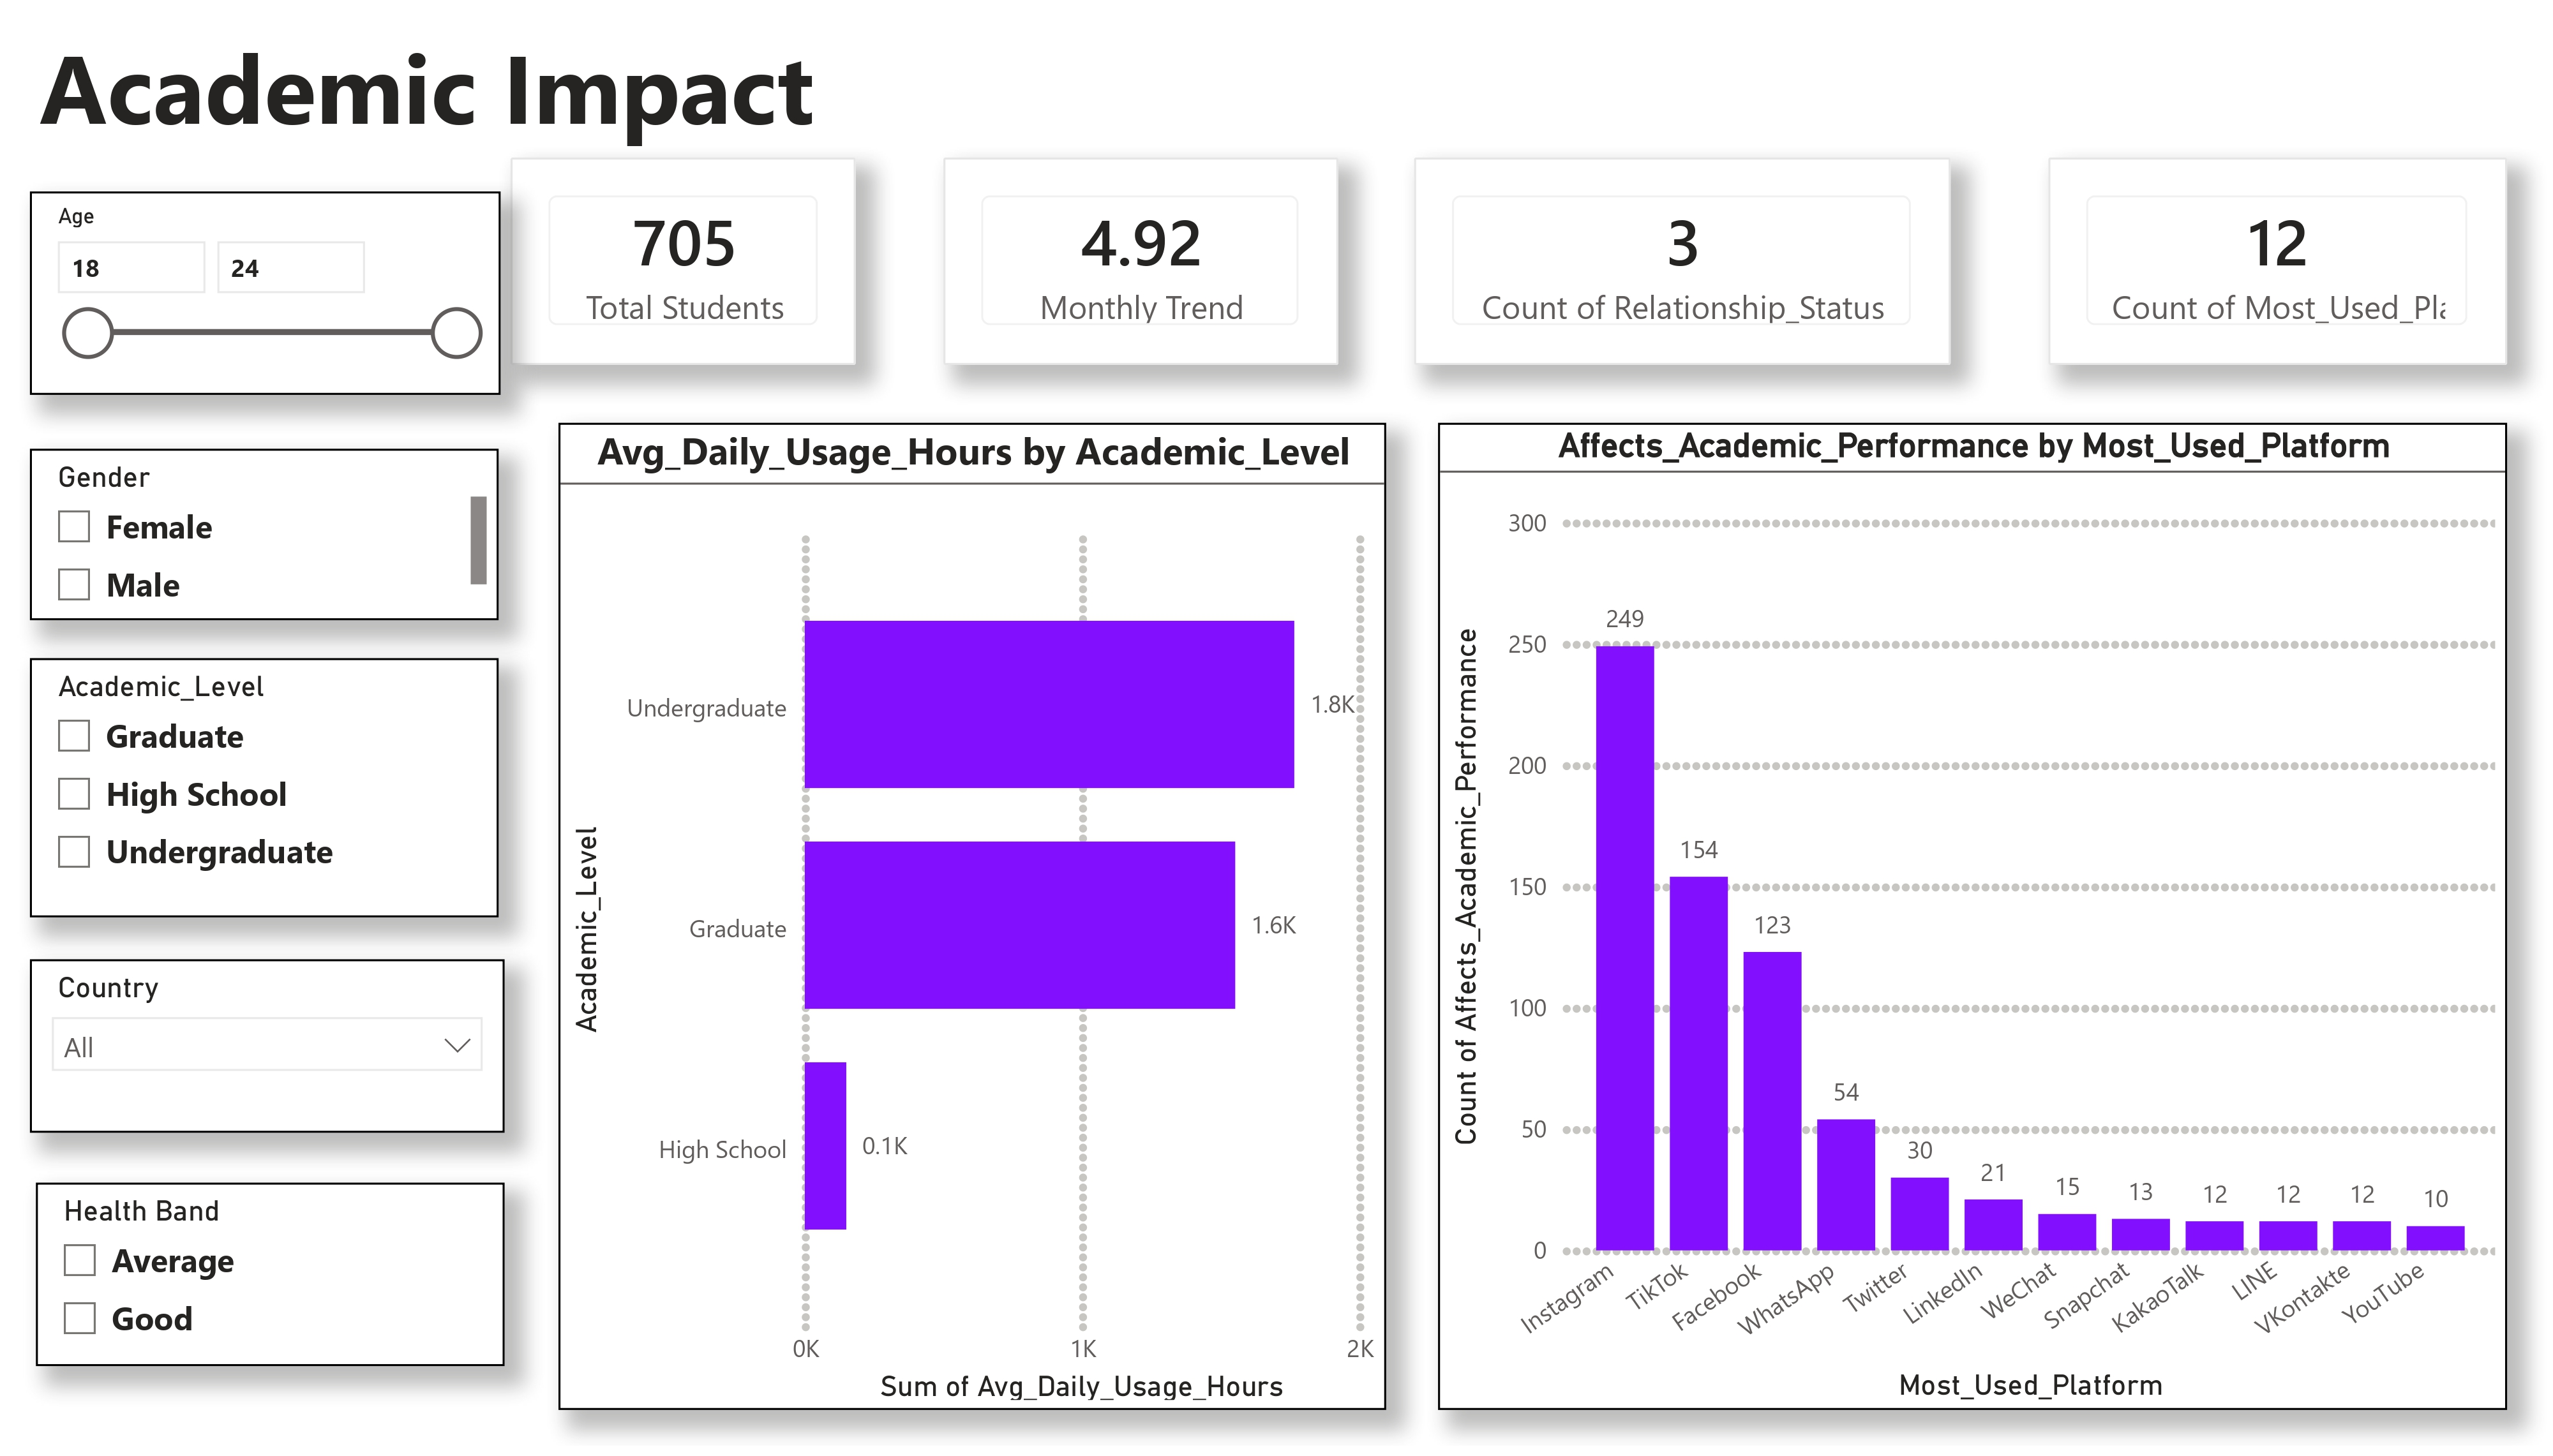

What the dashboard file says about the page in this screenshot:
{"tool":"powerbi","page":{"name":"Academic Impact","canvas":[1280,720],"ordinal":2},"visuals":[{"type":"barChart","title":" Avg_Daily_Usage_Hours by Academic_Level","fields":{"Category":["Student Details.Academic_Level"],"Y":["Sum(Platform Details.Avg_Daily_Usage_Hours)"]},"box":[280.1,207.3,414.5,495.5],"z":0},{"type":"columnChart","title":" Affects_Academic_Performance by Most_Used_Platform","fields":{"Category":["Platform Details.Most_Used_Platform"],"Y":["CountNonNull(Platform Details.Affects_Academic_Performance)"]},"box":[720.6,207.3,536,495.5],"z":1000},{"type":"textbox","box":[14.6,0,414.5,97.2],"z":2000},{"type":"cardVisual","fields":{"Data":["Student Details.Total Students"]},"box":[255.8,74.5,173.3,103.6],"z":2001},{"type":"cardVisual","fields":{"Data":["DateTable.Monthly Trend"]},"box":[472.8,74.5,197.5,103.6],"z":2002},{"type":"cardVisual","fields":{"Data":["Count(Student Details.Relationship_Status)"]},"box":[709.2,74.5,268.8,103.6],"z":2003},{"type":"cardVisual","fields":{"Data":["Count(Platform Details.Most_Used_Platform)"]},"box":[1026.6,74.5,229.9,103.6],"z":2004},{"type":"slicer","fields":{"Values":["Student Details.Age"]},"box":[14.6,90.7,236.4,102],"z":2005},{"type":"slicer","fields":{"Values":["Student Details.Gender"]},"box":[14.6,220.2,234.8,85.8],"z":2006},{"type":"slicer","fields":{"Values":["Student Details.Academic_Level"]},"box":[14.6,325.5,234.8,129.5],"z":2007},{"type":"slicer","fields":{"Values":["Student Details.Country"]},"box":[14.6,476.1,238,87.4],"z":2008},{"type":"slicer","fields":{"Values":["Student Details.Health Band"]},"box":[17.8,587.8,234.8,92.3],"z":2009}]}

Visuals, with their boxes in screenshot pixels (x1, y1, x2, y2), scaled from the page's 1280x720 canvas onto the 2553x1456 screenshot:
" Avg_Daily_Usage_Hours by Academic_Level" barChart: left=558, top=419, right=1386, bottom=1421
" Affects_Academic_Performance by Most_Used_Platform" columnChart: left=1437, top=419, right=2506, bottom=1421
textbox: left=29, top=0, right=856, bottom=197
cardVisual - Student Details.Total Students: left=510, top=151, right=856, bottom=360
cardVisual - DateTable.Monthly Trend: left=943, top=151, right=1337, bottom=360
cardVisual - Count(Student Details.Relationship_Status): left=1414, top=151, right=1950, bottom=360
cardVisual - Count(Platform Details.Most_Used_Platform): left=2048, top=151, right=2506, bottom=360
slicer - Student Details.Age: left=29, top=183, right=500, bottom=390
slicer - Student Details.Gender: left=29, top=445, right=497, bottom=619
slicer - Student Details.Academic_Level: left=29, top=658, right=497, bottom=920
slicer - Student Details.Country: left=29, top=963, right=504, bottom=1140
slicer - Student Details.Health Band: left=36, top=1189, right=504, bottom=1376
